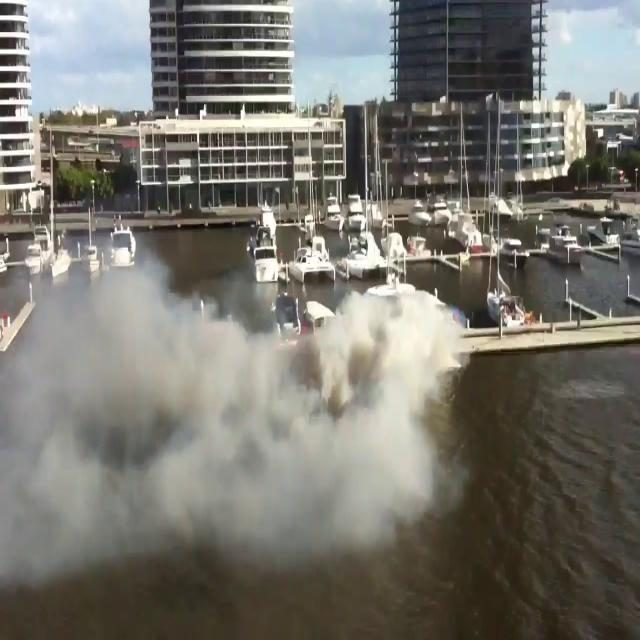Smoke: (0, 218, 474, 587)
